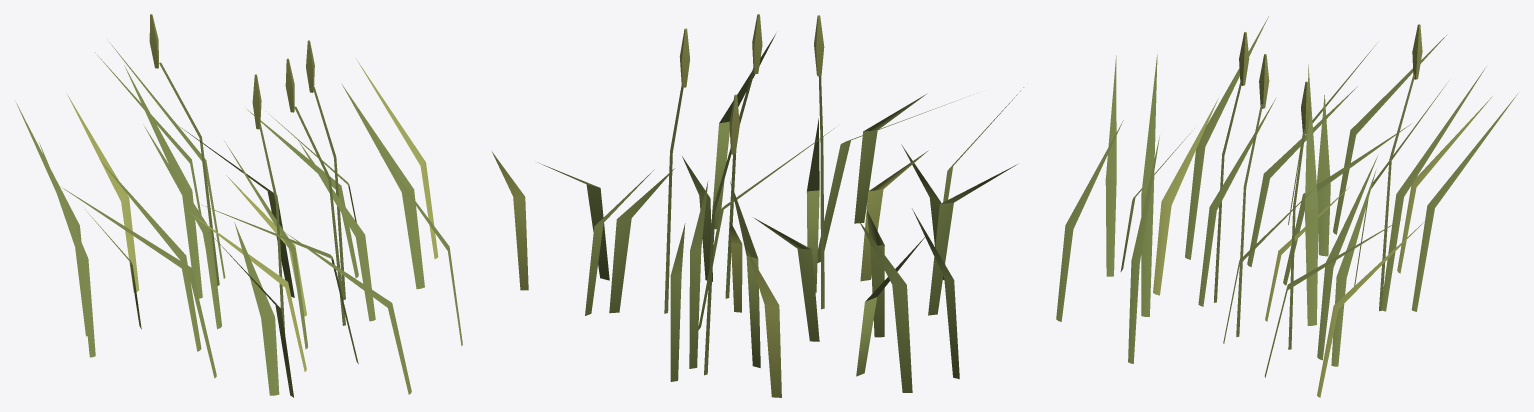
The model's file is foliage_meadow_tall_b.glb.
The picture shows the model from 3 angles, left to right: view 1: azimuth 30°, elevation 25°; view 2: azimuth 150°, elevation 25°; view 3: azimuth 270°, elevation 25°; orthographic projection. The views are drawn at different scales.
Visible parts, largest first — view 1: foliage_meadow_tall_b_LOD0; view 2: foliage_meadow_tall_b_LOD0; view 3: foliage_meadow_tall_b_LOD0.
Part boxes in pixels (x1,y1,x2,y2): foliage_meadow_tall_b_LOD0: [15, 14, 462, 397]; foliage_meadow_tall_b_LOD0: [492, 14, 1023, 397]; foliage_meadow_tall_b_LOD0: [1056, 16, 1517, 397].
Size of what is drawn, in the model's own units: 0.9955 by 0.6259 by 0.9961.
